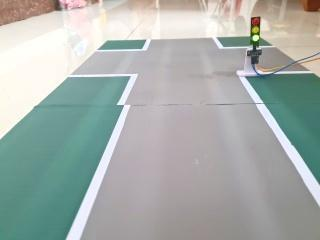green: (245, 11, 270, 48)
